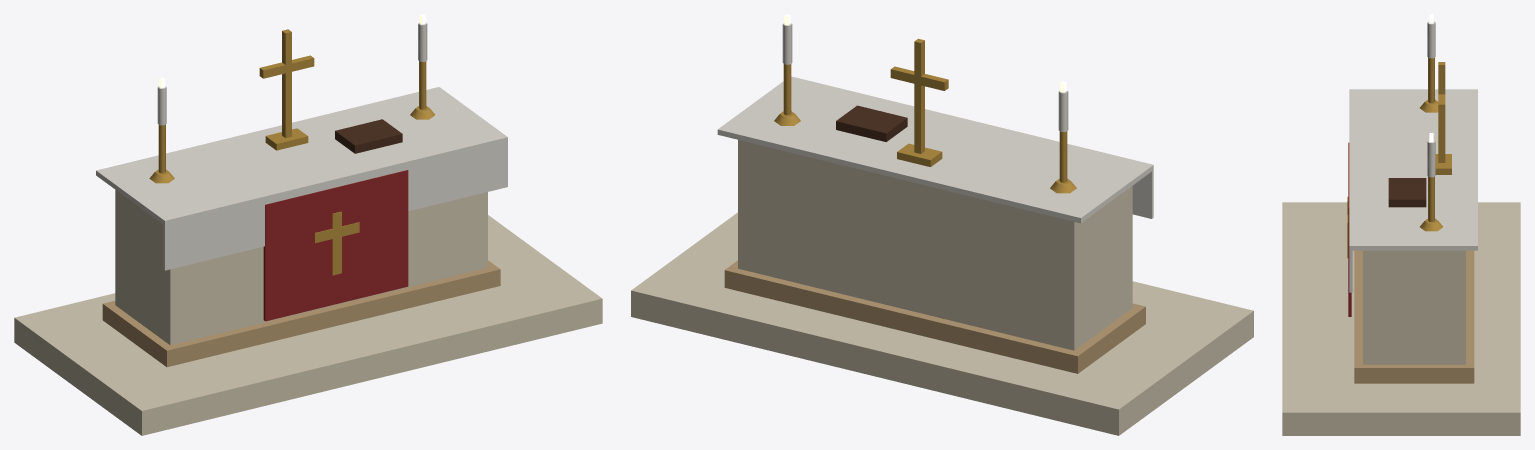
The model's file is altar.glb.
3 renders of one model, left to right at view 1: azimuth 30°, elevation 25°; view 2: azimuth 150°, elevation 25°; view 3: azimuth 270°, elevation 25°, orthographic. The views are drawn at different scales.
Visible parts, largest first — view 1: altar; view 2: altar; view 3: altar.
Boxes of the visible parts, bbox=[...] form: altar: bbox=[14, 14, 602, 435]; altar: bbox=[631, 14, 1253, 435]; altar: bbox=[1282, 14, 1520, 435].
Bounding box in the file's own units: 2.9 × 1.72 × 1.39.
Materials: 1 (1 with a texture image).
